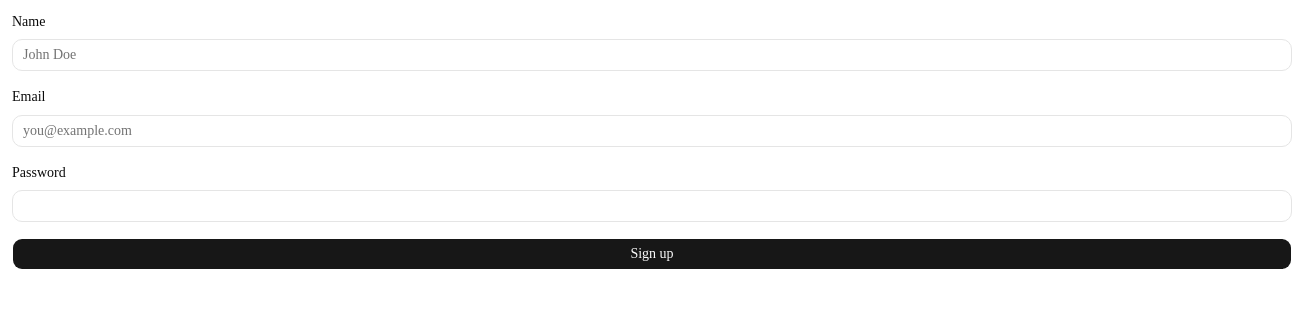
Test: RegisterForm › shows validation error for invalid email
Type "Maria Kowalska" into the field labelled "Name".
click(652, 55); type("Maria Kowalska")  # box [12,39,1292,71]
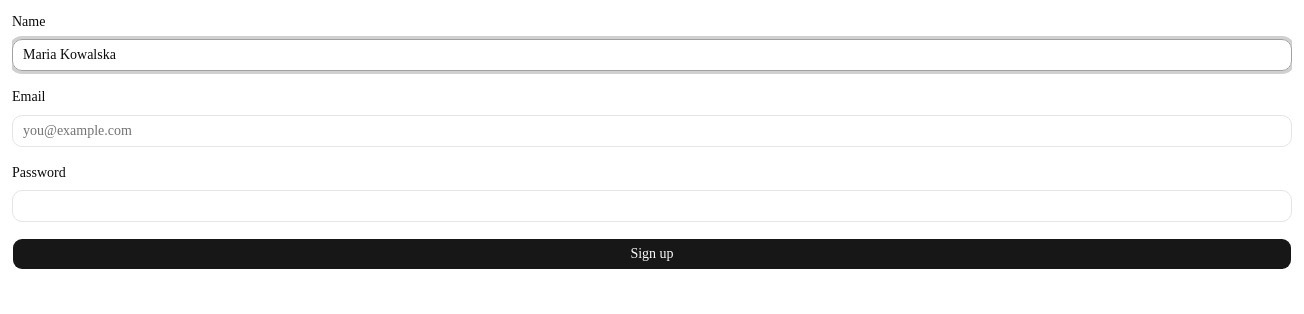
Type "not-an-email" into the field labelled "Email".
click(652, 130); type("not-an-email")  # box [12,114,1292,146]
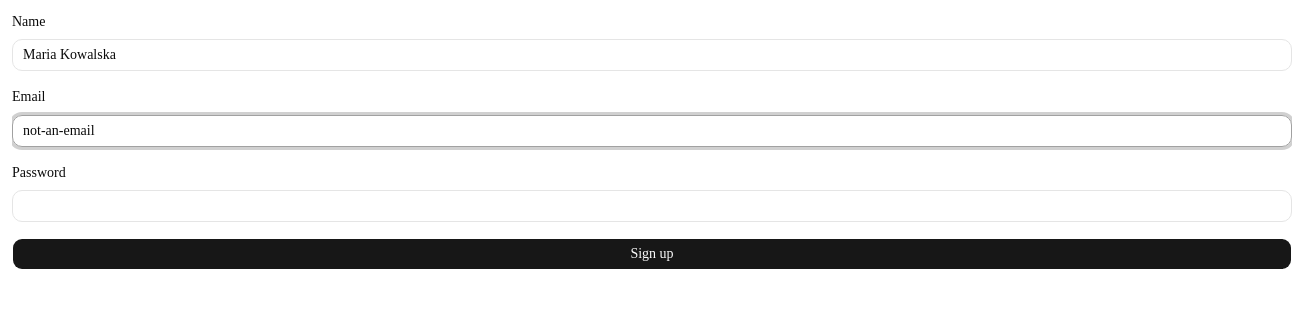
Type "Sunset!Jam2026" into the password field labelled "Password".
click(652, 206); type("Sunset!Jam2026")  # box [12,190,1292,222]
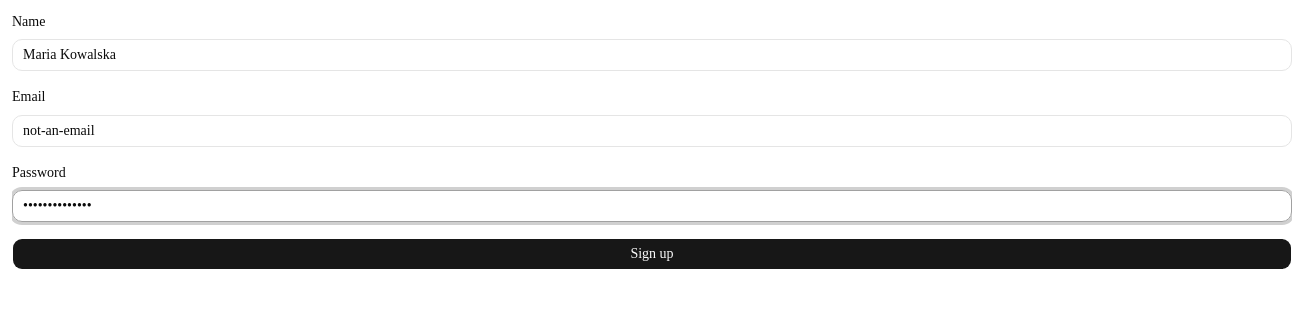
Click the button "Sign up".
click(652, 254)  # box [12,238,1292,270]
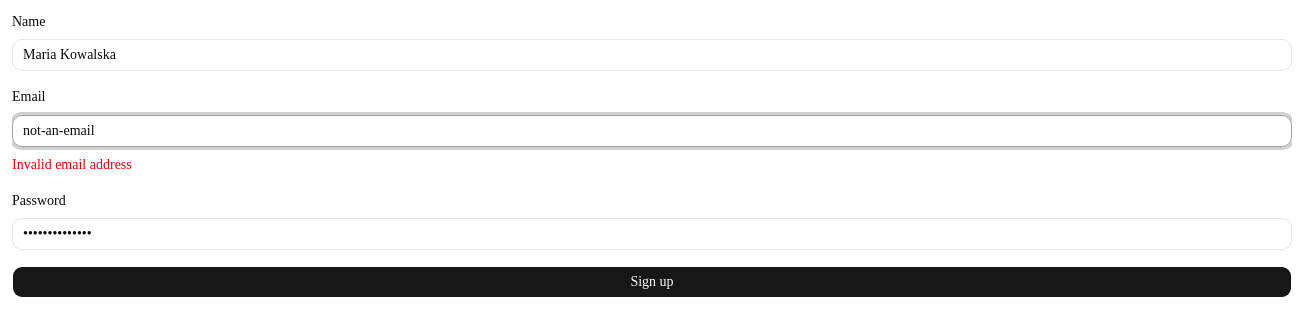
Expected: the message "Invalid email address" is shown, [12,156,132,172]
